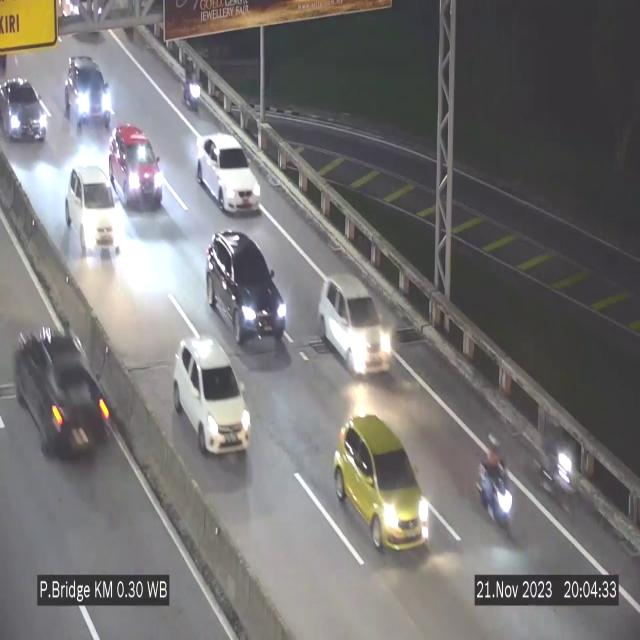Car: (10, 310, 112, 483), (334, 418, 429, 551), (208, 230, 288, 348), (173, 338, 250, 454), (318, 275, 394, 374), (63, 164, 122, 257), (196, 133, 262, 212), (108, 124, 162, 207), (63, 53, 113, 129), (0, 76, 50, 144)
Motorcycle: (538, 416, 578, 527), (478, 452, 514, 527), (182, 58, 202, 114)
